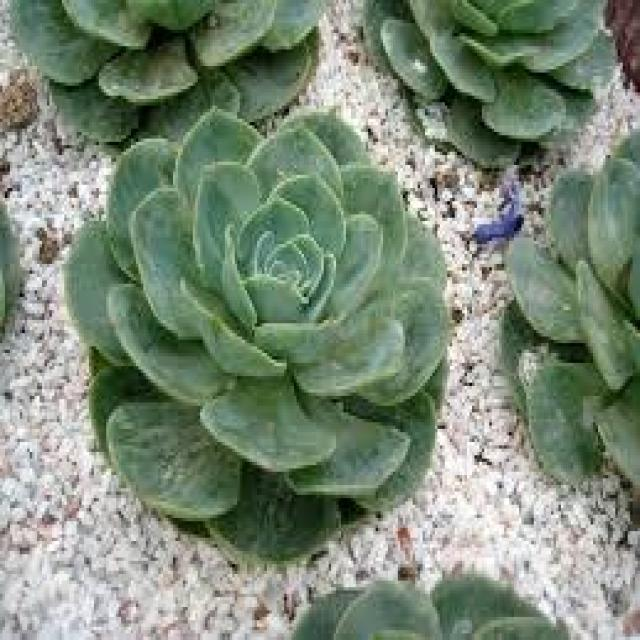organic waste: (77, 119, 447, 518), (492, 134, 638, 496)
